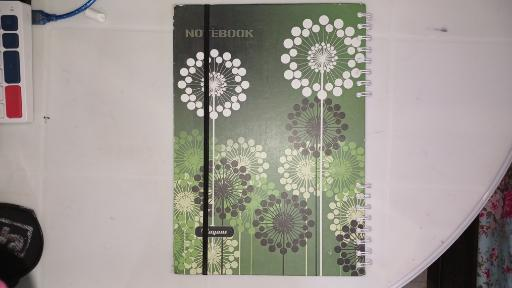notebook: (173, 1, 374, 275)
